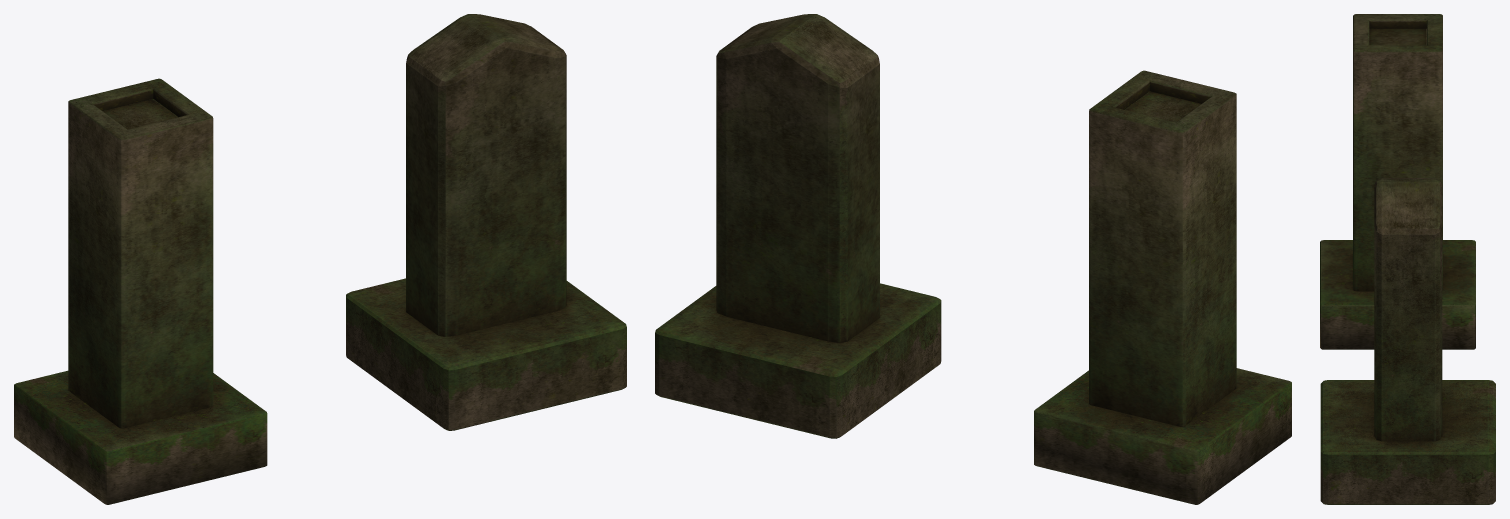
File: grave_stone.glb
3 renders of one model, left to right at view 1: azimuth 30°, elevation 25°; view 2: azimuth 150°, elevation 25°; view 3: azimuth 270°, elevation 25°, orthographic. The views are drawn at different scales.
Parts seen in each view (by area): view 1: SO_005, SO_004_Top, SO_004_Base; view 2: SO_005, SO_004_Top, SO_004_Base; view 3: SO_005, SO_004_Top, SO_004_Base.
Boxes of the visible parts, bbox=[...] form: SO_005: bbox=[14, 78, 267, 504]; SO_004_Top: bbox=[406, 14, 566, 336]; SO_004_Base: bbox=[346, 278, 626, 430]; SO_005: bbox=[1034, 70, 1291, 504]; SO_004_Top: bbox=[716, 14, 879, 342]; SO_004_Base: bbox=[655, 283, 941, 438]; SO_005: bbox=[1320, 14, 1475, 349]; SO_004_Top: bbox=[1374, 178, 1442, 441]; SO_004_Base: bbox=[1320, 380, 1495, 504].
Bounding box in the file's own units: 214 × 138 × 74.78.
Materials: 3 (3 with a texture image).
